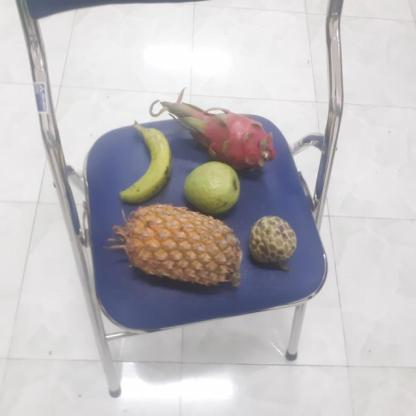annona: (245, 216, 296, 266)
banana: (118, 125, 172, 203)
guava: (180, 162, 242, 216)
pineapple: (113, 204, 243, 289)
pitaya: (184, 111, 272, 173)
